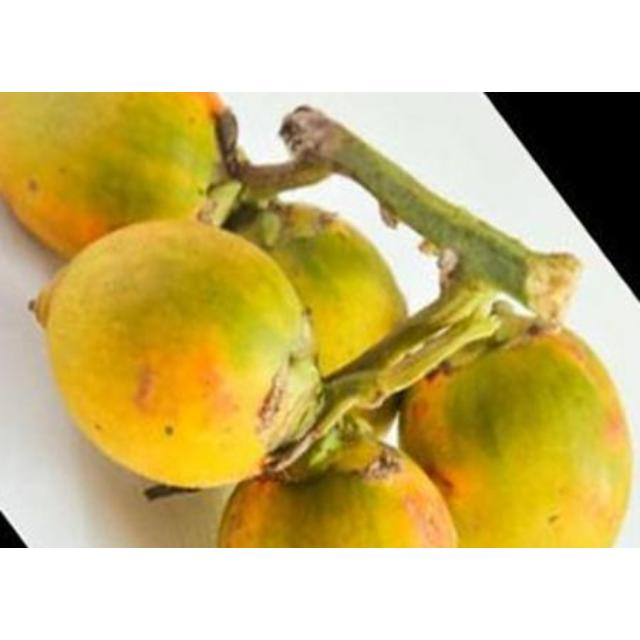good: (36, 218, 310, 488), (402, 321, 630, 545), (3, 94, 235, 258), (229, 200, 403, 392), (216, 439, 460, 545)
